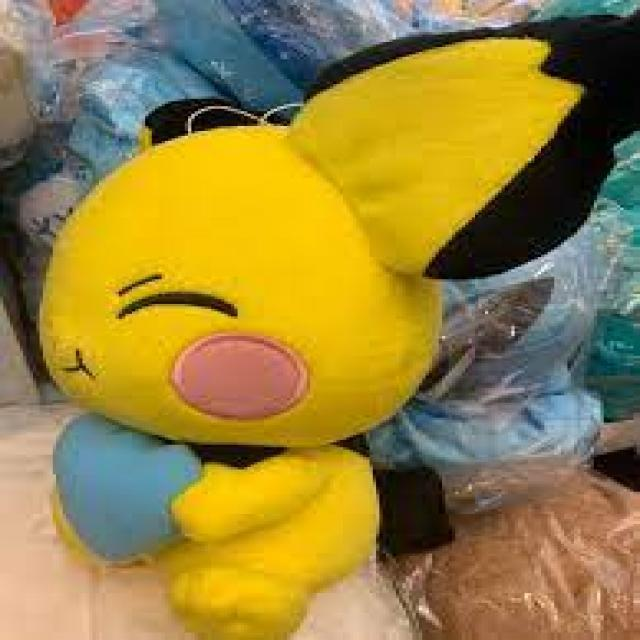pichu: (48, 26, 640, 632)
